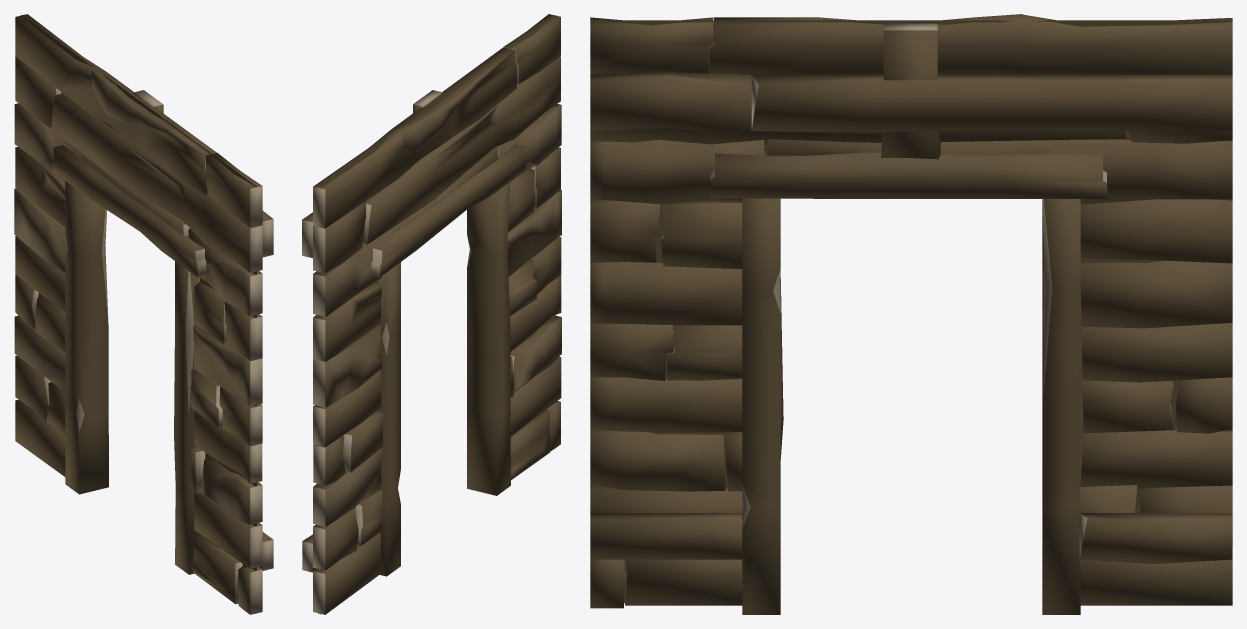
The model's file is SM_Polygonal_Wood_Doorframe.fbx.
The picture shows the model from 3 angles, left to right: view 1: azimuth 30°, elevation 25°; view 2: azimuth 150°, elevation 25°; view 3: azimuth 270°, elevation 25°; orthographic projection. The views are drawn at different scales.
Parts seen in each view (by area): view 1: SM_Polygonal_Wood_Doorframe_LOD0; view 2: SM_Polygonal_Wood_Doorframe_LOD0; view 3: SM_Polygonal_Wood_Doorframe_LOD0.
Boxes of the visible parts, <box> form: SM_Polygonal_Wood_Doorframe_LOD0: <box>14,14,273,614</box>; SM_Polygonal_Wood_Doorframe_LOD0: <box>302,14,561,614</box>; SM_Polygonal_Wood_Doorframe_LOD0: <box>590,14,1232,614</box>.
Bounding box in the file's own units: 27.82 × 300 × 302.
1 material, 1 textured.
